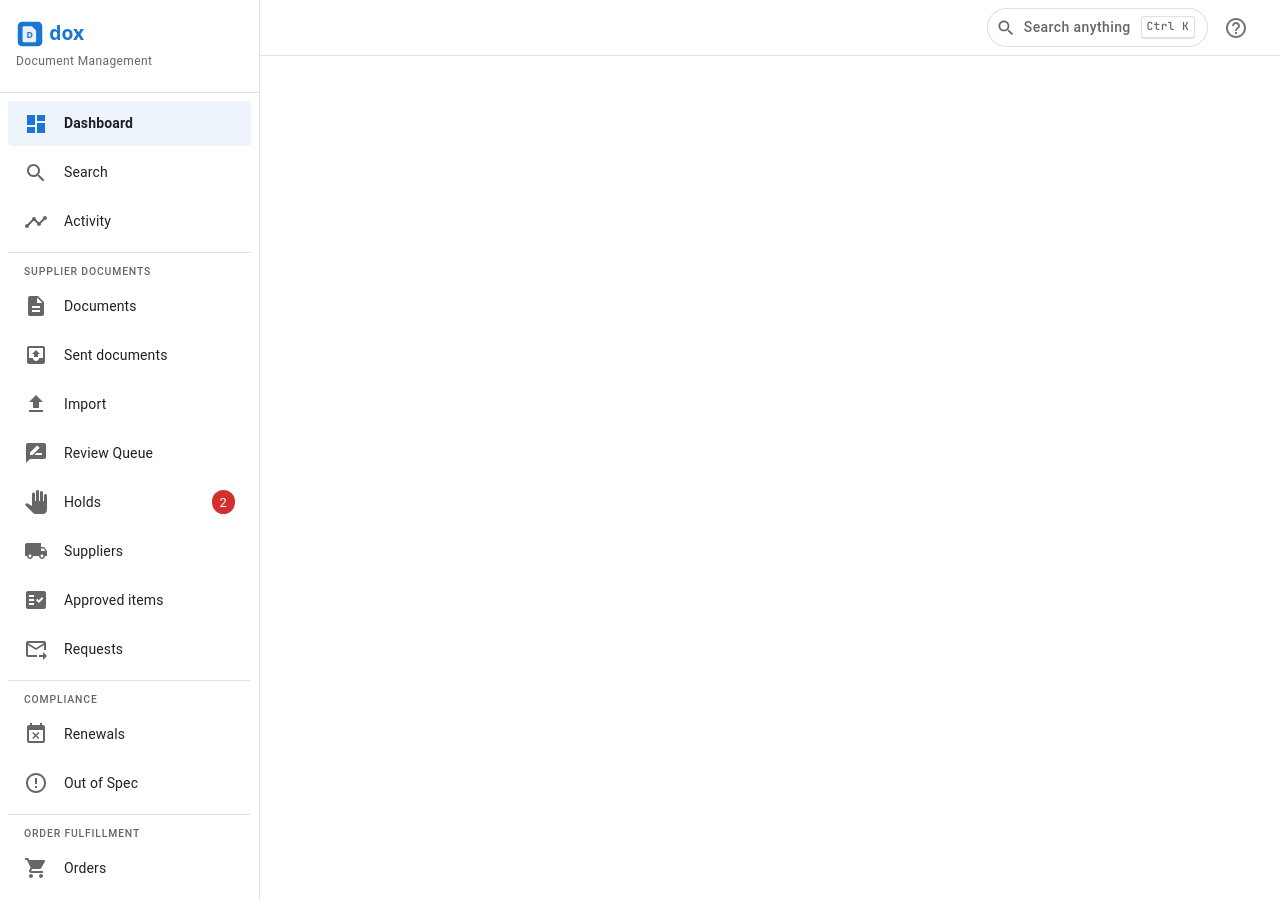
Scenario: Layout: Holds in the rail › asks once on mount and again when a screen says a hold was placed or released, not on every navigation
Expected: the element with test id "nav-holds-count" reads "2", [220,495,227,510]
Click the button "Orders": (65, 868) [24,856,106,880]
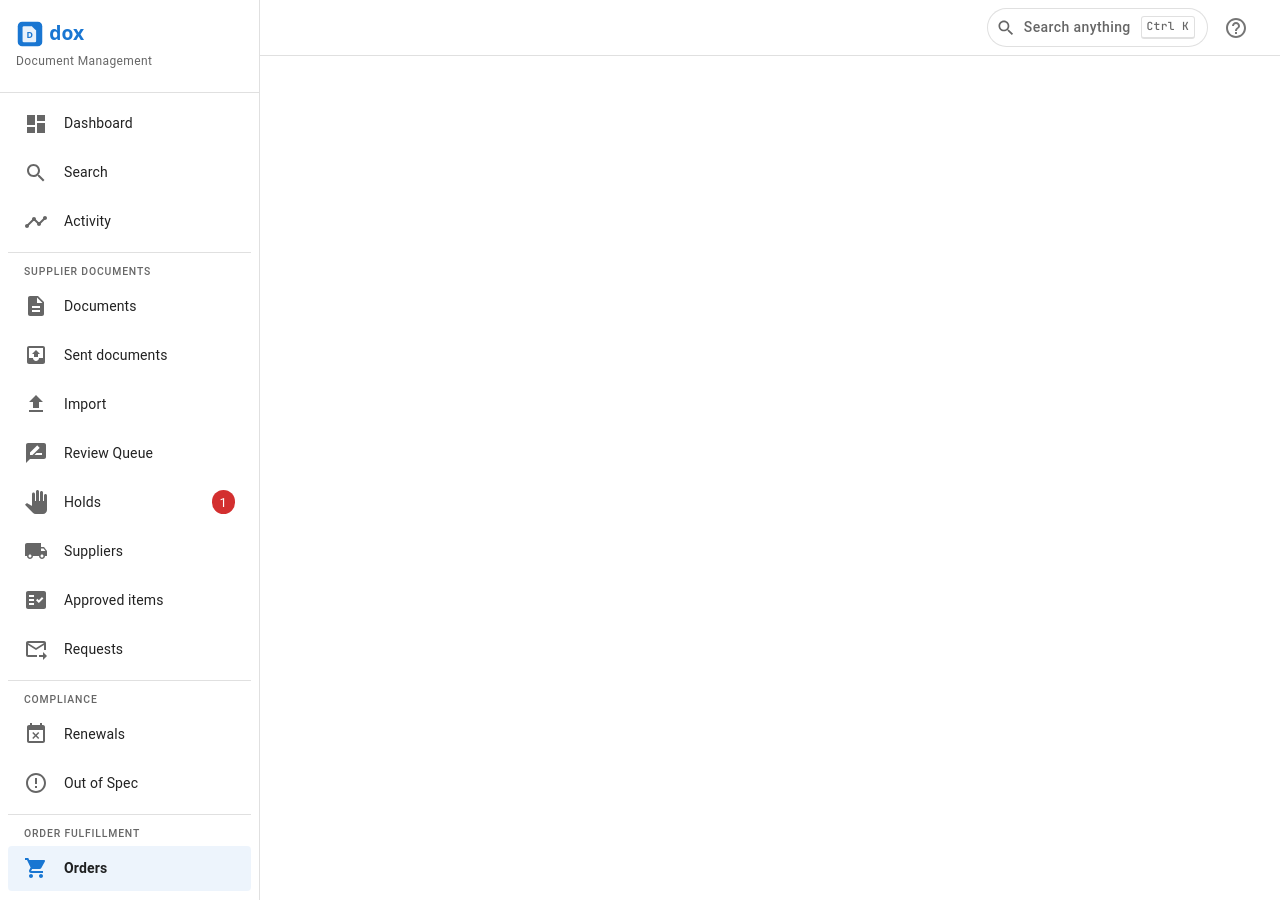
Expected: the text "Holds" is shown, [64,494,101,510]
Now the element with test id "nav-holds-count" reads "1", box [220,495,227,510]
